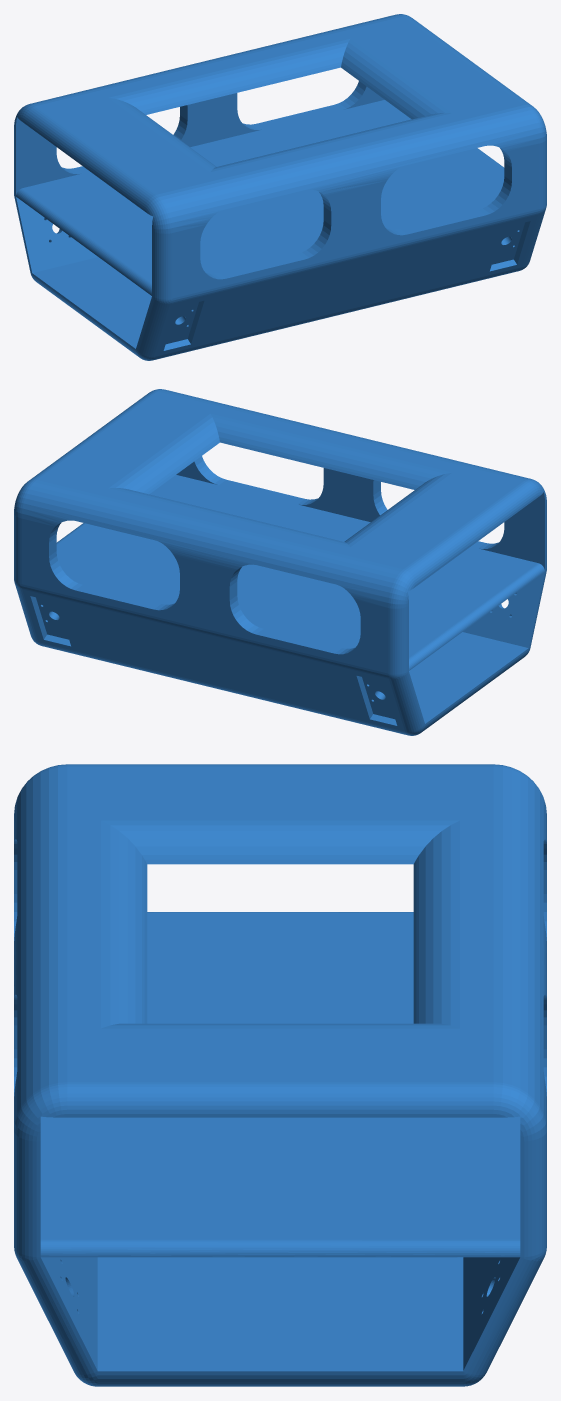
Rendered from torso_v1.dae.
The picture shows the model from 3 angles, top to bottom: view 1: azimuth 30°, elevation 25°; view 2: azimuth 150°, elevation 25°; view 3: azimuth 270°, elevation 25°; orthographic projection. The views are drawn at different scales.
Parts seen in each view (by area): view 1: Torso; view 2: Torso; view 3: Torso.
Boxes of the visible parts, x1,y1,x2,y2 form: Torso: (14, 14, 546, 360); Torso: (14, 389, 546, 735); Torso: (14, 764, 546, 1386).
Bounding box in the file's own units: 0.3 × 0.2 × 0.125.
